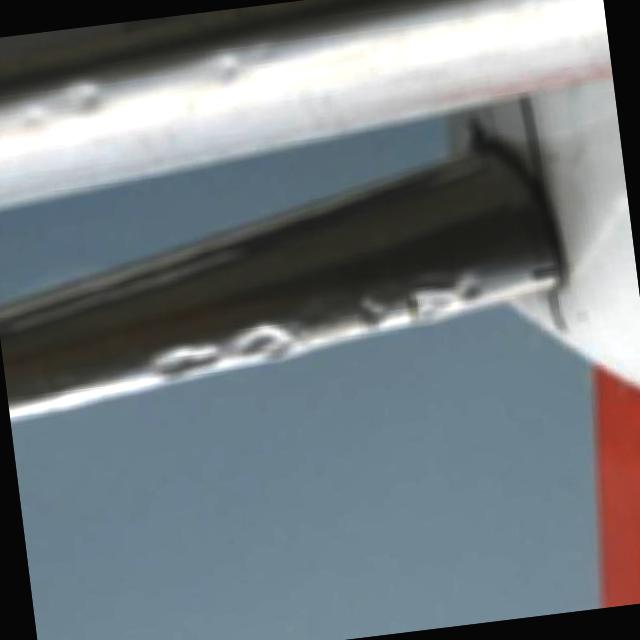dent: (151, 339, 224, 382), (228, 320, 298, 362), (400, 279, 460, 319), (206, 44, 247, 86), (354, 290, 392, 334), (68, 80, 102, 117), (456, 264, 482, 302)
